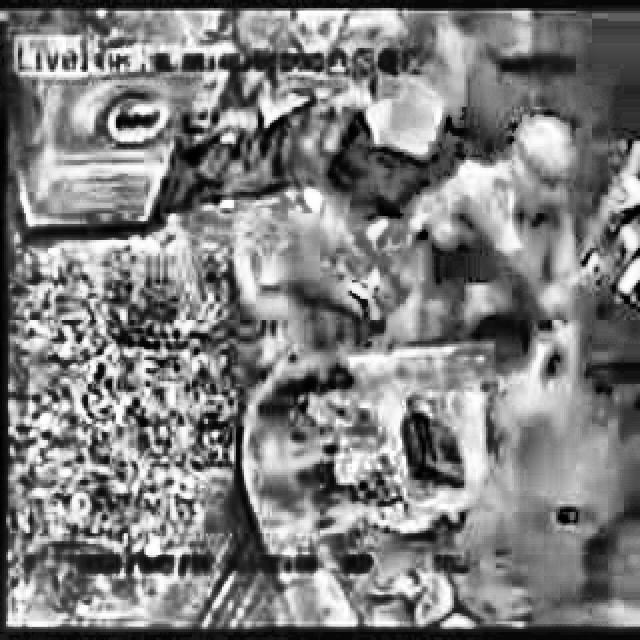robbery: (356, 107, 613, 430)
